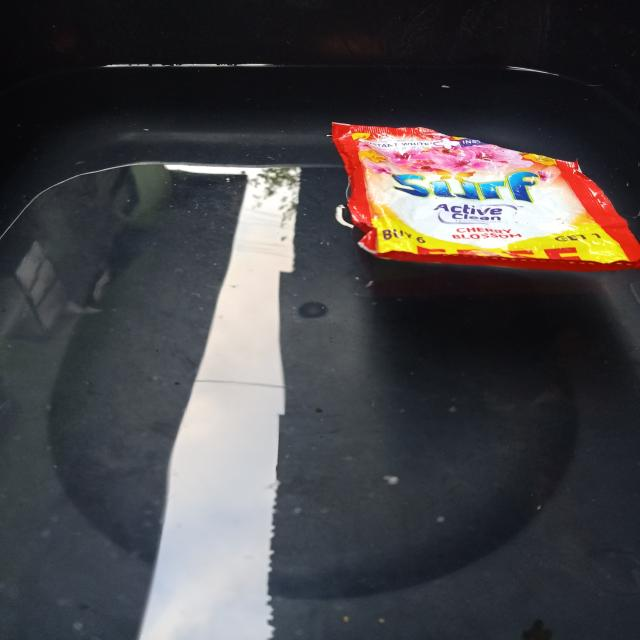Plastic Wrapper: (314, 109, 633, 283)
